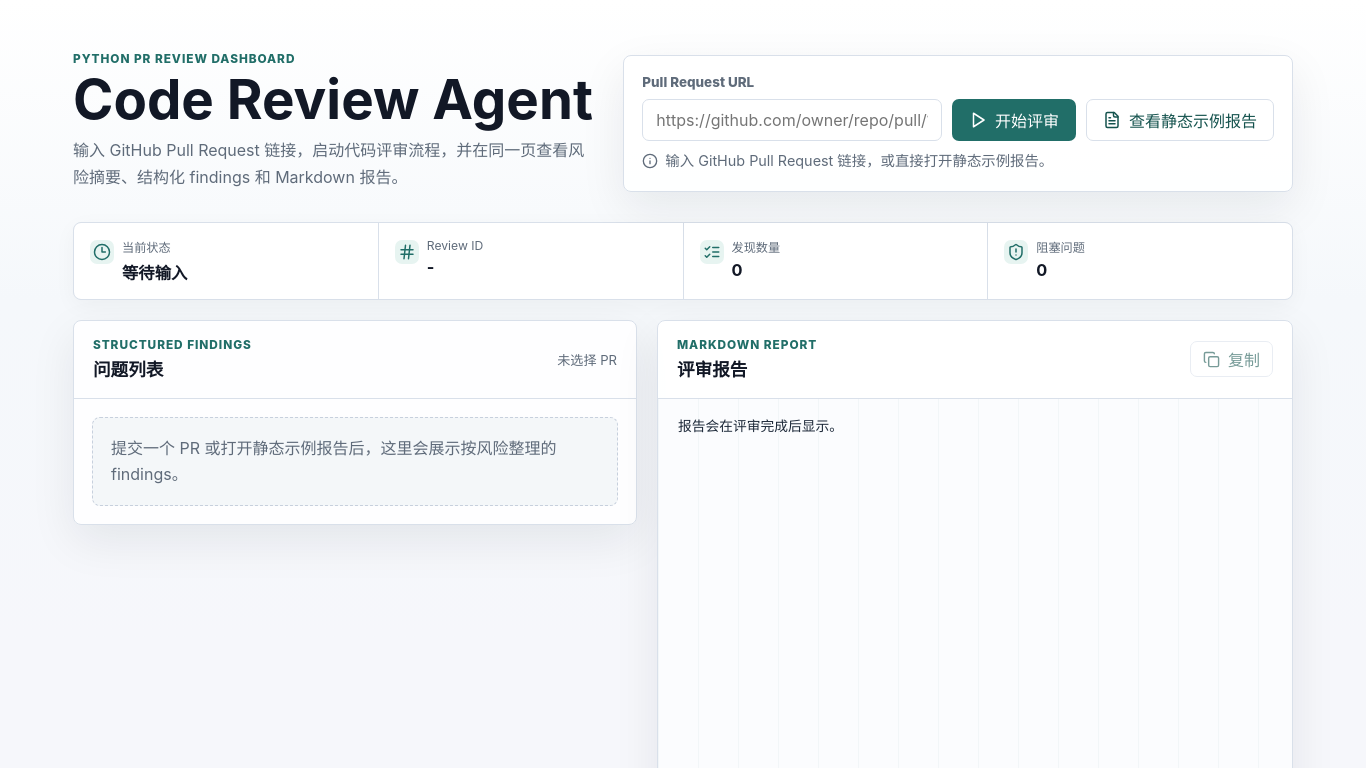
App › polls queued and running reviews until success
The image size is (1366, 768).
Type "https://github.com/octo/demo/pull/1" into the field labelled "Pull Request URL" at (792, 120), box [642, 99, 942, 141]
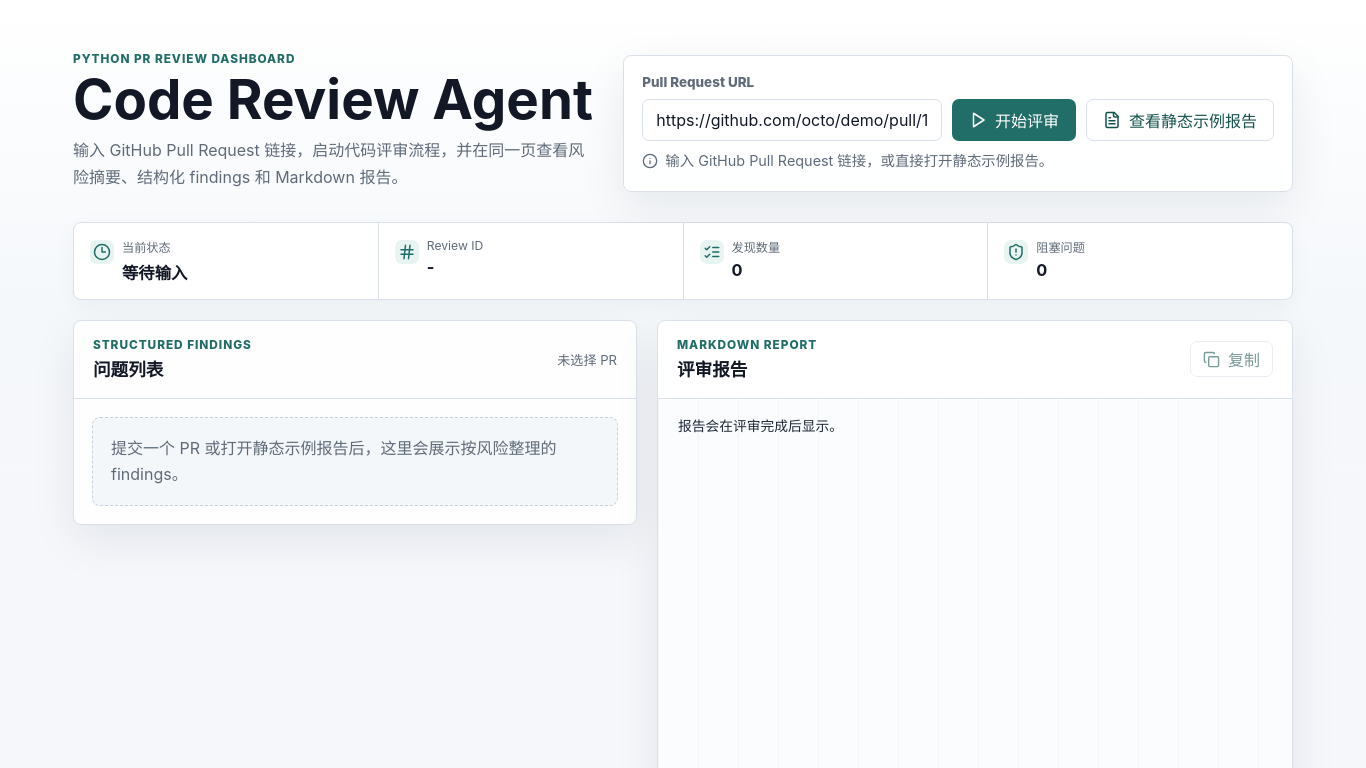
Click the button "开始评审" at (1014, 120), box [952, 99, 1076, 141]
Wait 4000 ms
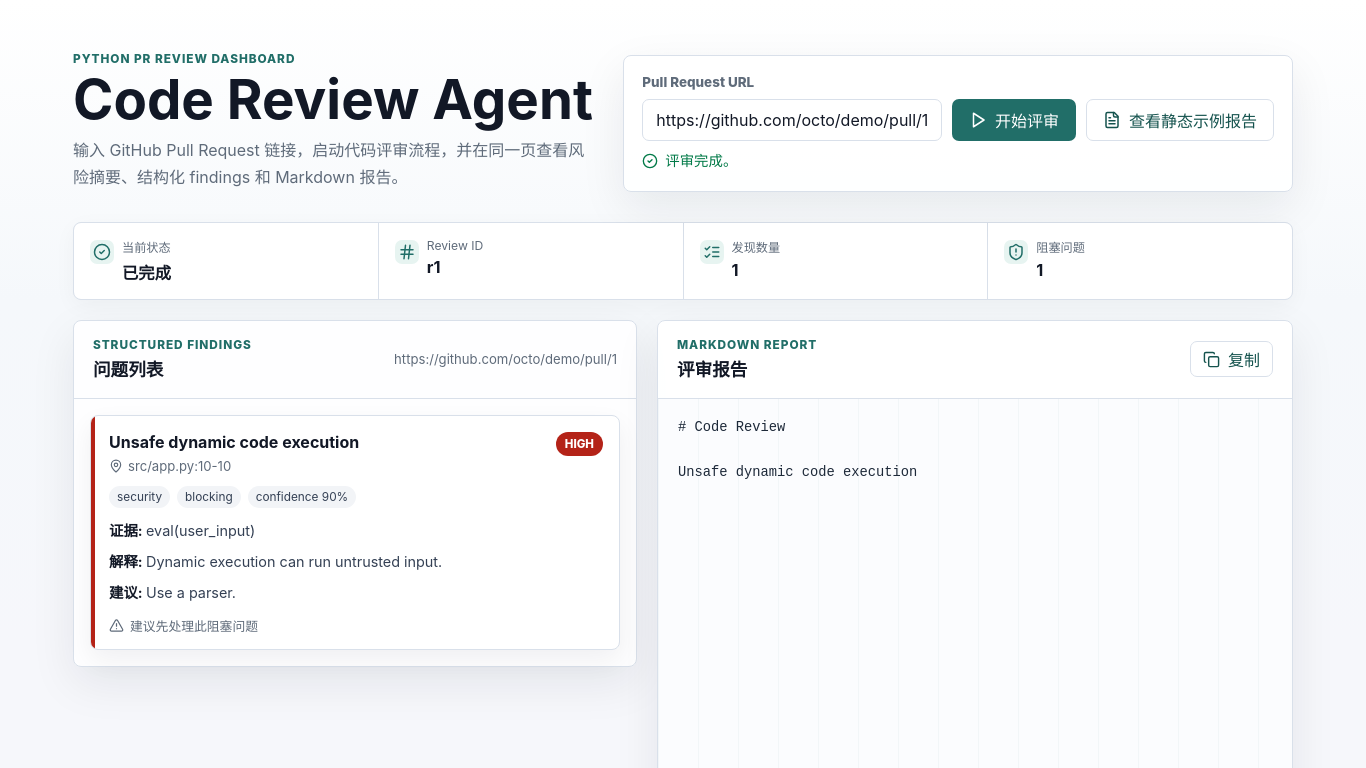
Expected: the text "已完成" is shown, [122, 263, 171, 283]
Expected: the heading "Unsafe dynamic code execution" is shown, [109, 432, 359, 453]
